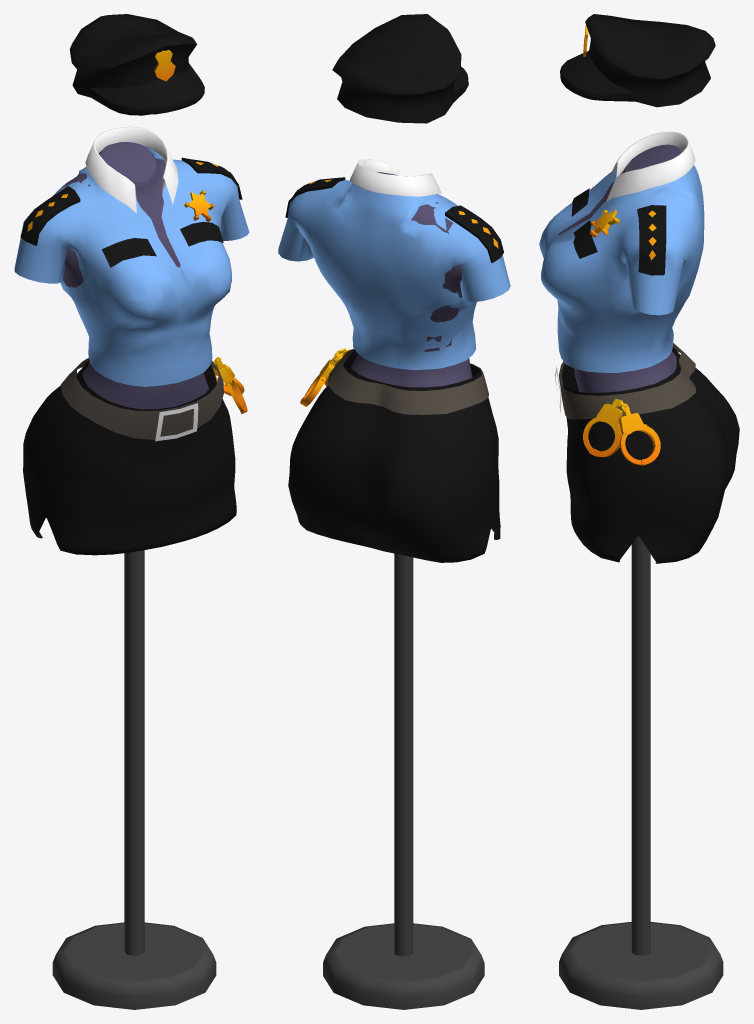
File: Dress_11.fbx
3 renders of one model, left to right at view 1: azimuth 30°, elevation 25°; view 2: azimuth 150°, elevation 25°; view 3: azimuth 270°, elevation 25°, orthographic.
Visible parts, largest first — view 1: dress_10, dummy_1, hat_4; view 2: dress_10, dummy_1, hat_4; view 3: dress_10, dummy_1, hat_4.
Boxes of the visible parts, x1,y1,x2,y2 form: dress_10: (14,126,249,555); dummy_1: (52,142,216,1009); hat_4: (69,14,204,115); dress_10: (278,159,510,562); dummy_1: (323,172,484,1009); hat_4: (332,14,468,123); dress_10: (539,131,739,563); dummy_1: (558,144,723,1009); hat_4: (560,14,715,107).
Size of the model in its own units: 0.4871 by 1.94 by 0.3673.
